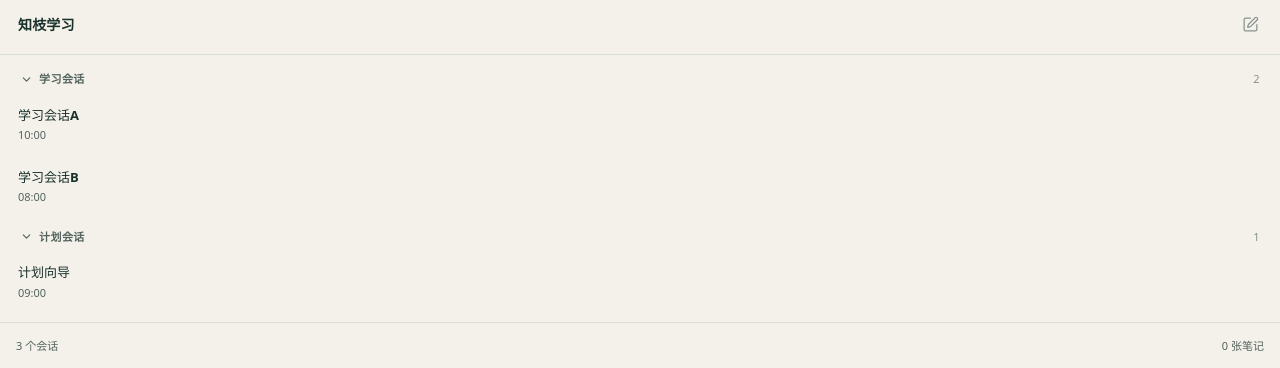
Test case: ThreadList 分组（学习会话 / 计划会话） › 两类分组可独立折叠，折叠状态持久化到 localStorage
What coordinates should you click on to do the following:
click the button with class "thread-list__group-head" showing "学习会话 2"
I would click on:
 (62, 78)
Its box is [10, 65, 1270, 94].
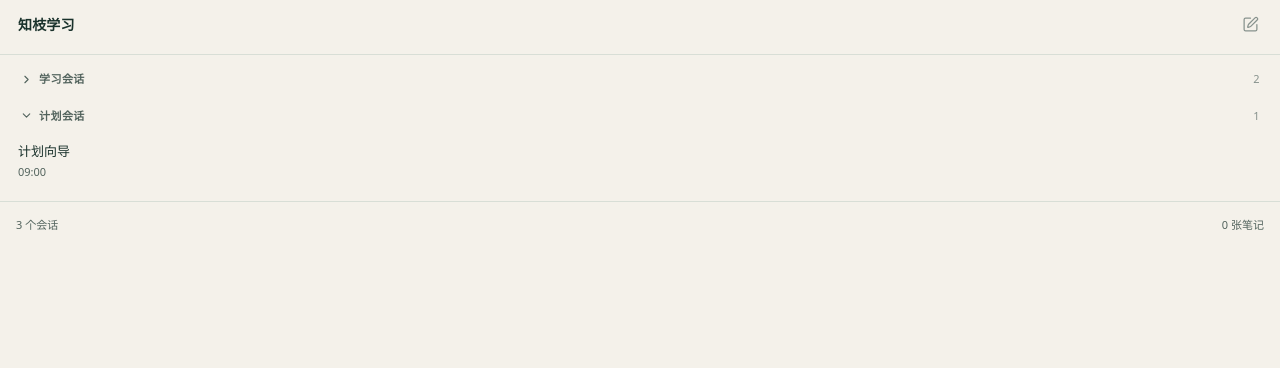
What coordinates should you click on to do the following:
click the button with class "thread-list__group-head" showing "计划会话 1"
I would click on:
 (62, 115)
Its box is [10, 102, 1270, 130].
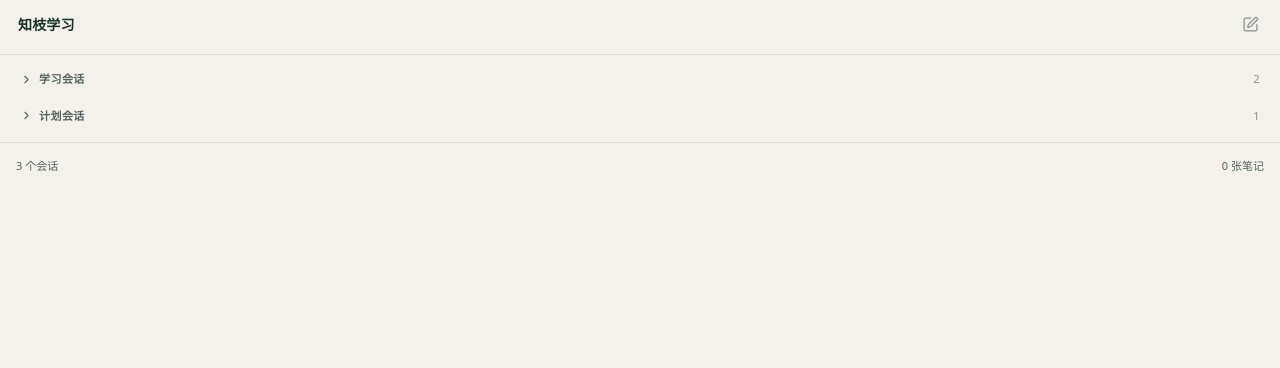
Expected: the number of buttons with class "thread-list__group-head" is 2, [10, 65, 1270, 94]; [10, 102, 1270, 130]
Expected: no list items with class "thread-list__item" are shown
